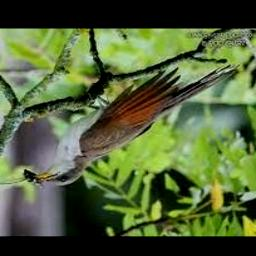Cuckoo: (35, 64, 238, 185)
